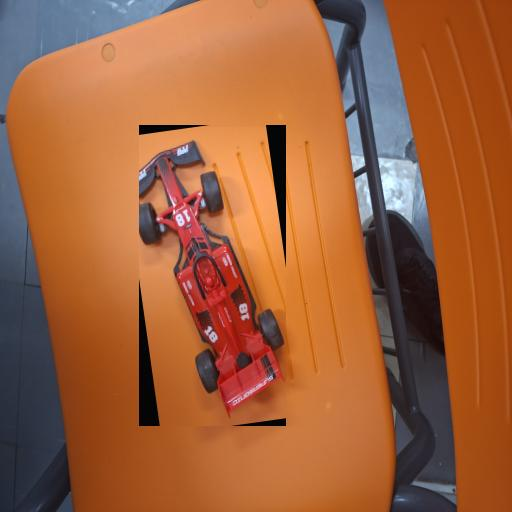carro: (139, 127, 286, 426)
